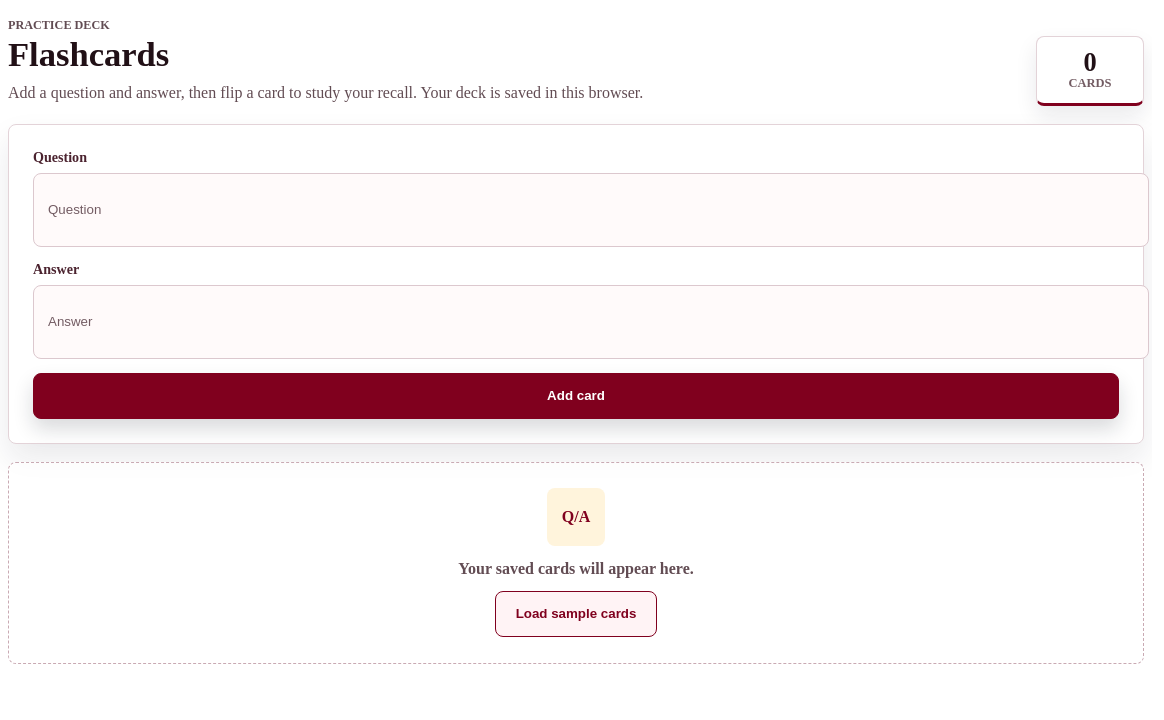
Test case: flashcard deck › says which field is missing and moves the cursor there
Clear the field with placeholder "Question" at (591, 210), box [33,173,1149,247]
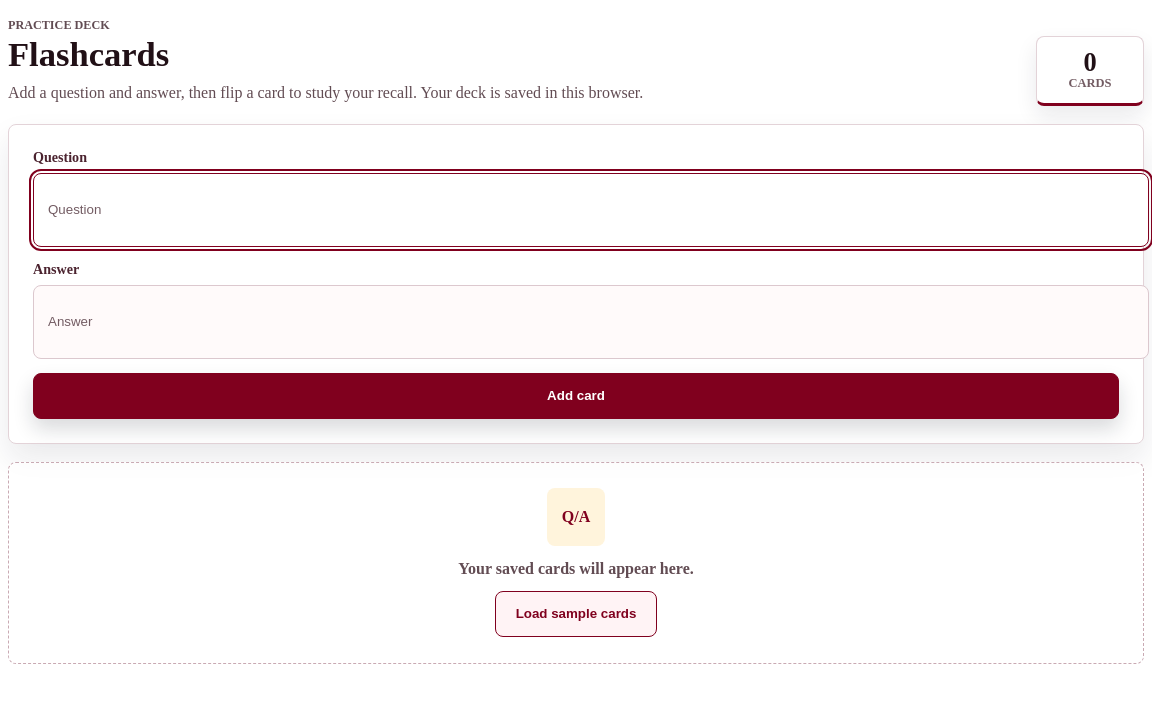
Clear the field with placeholder "Answer" at (591, 322), box [33,285,1149,359]
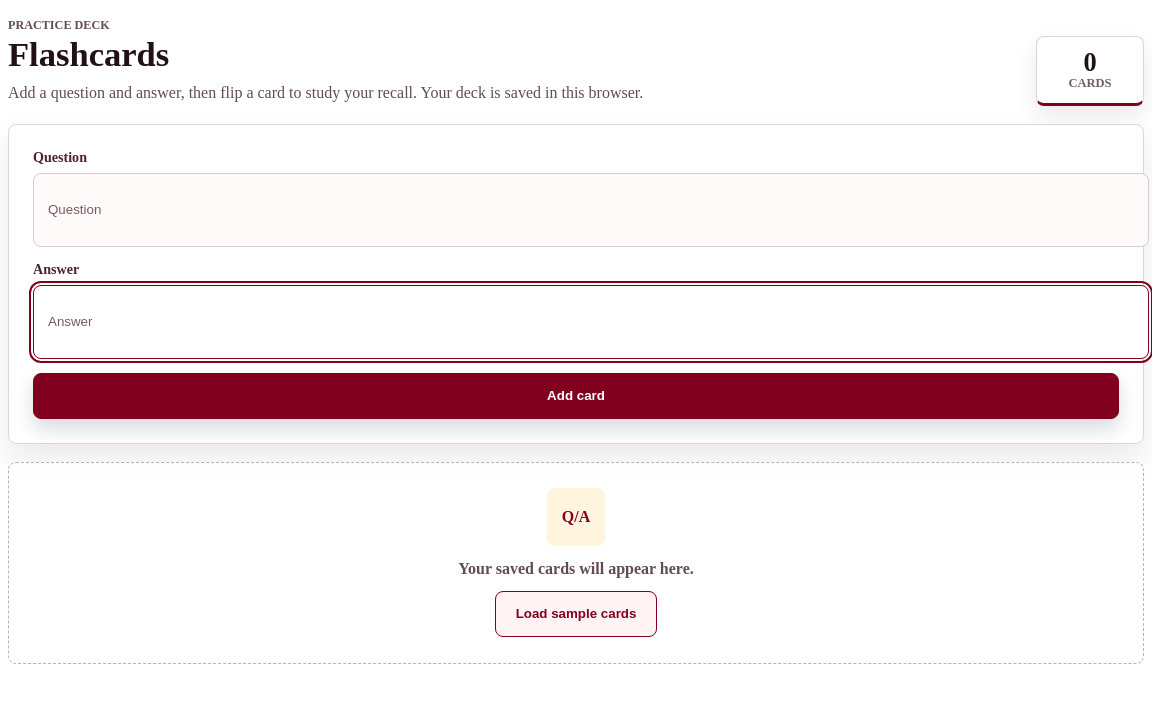
Type "A question with no answer" into the field with placeholder "Question" at (591, 210), box [33,173,1149,247]
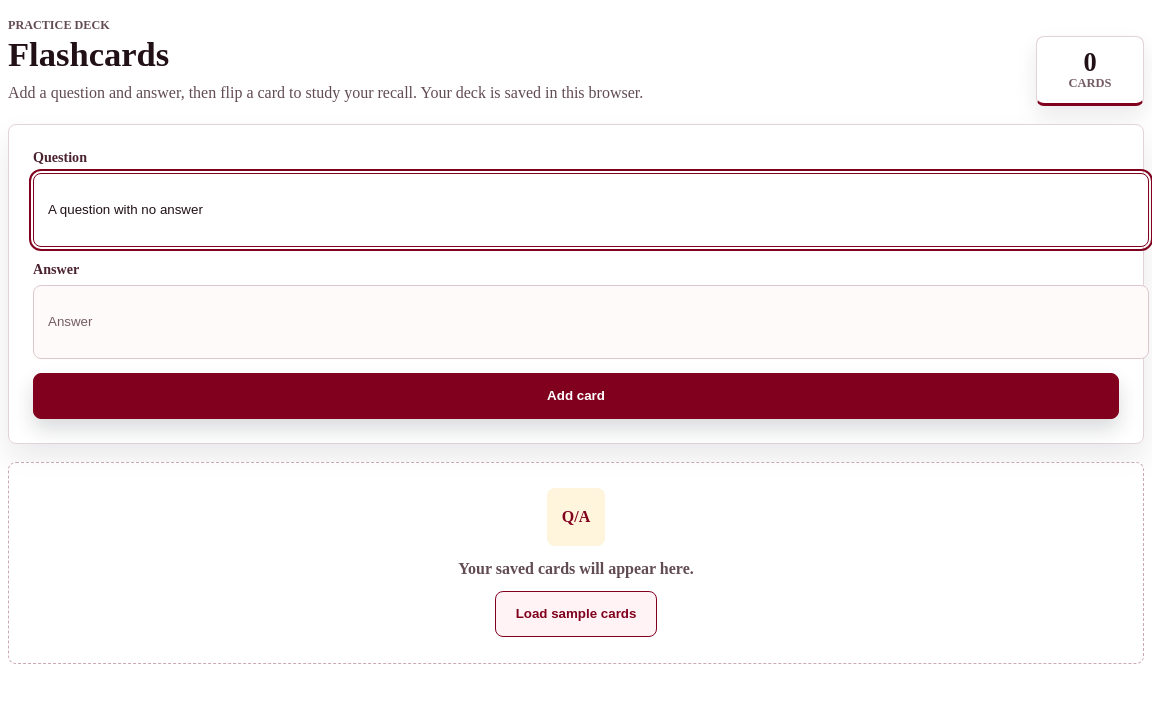
Click the button "Add card" at (576, 396), box [33,373,1119,419]
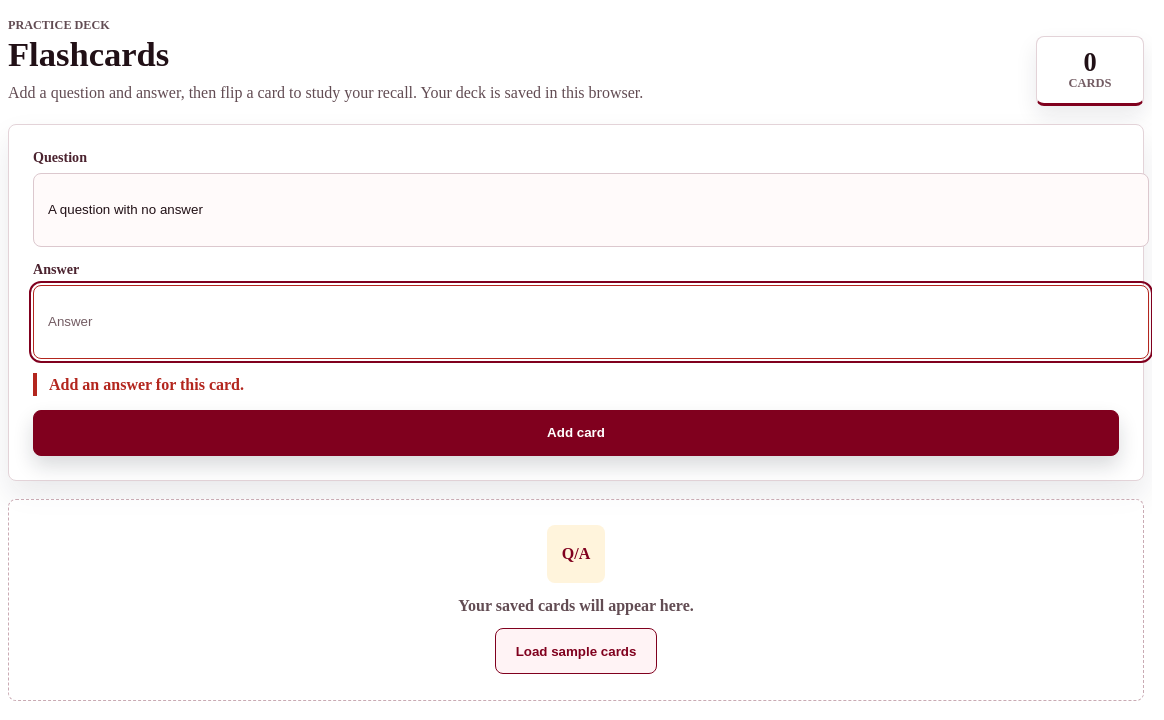
Expected: the message reads "Add an answer for this card.", [49,376,244,393]
